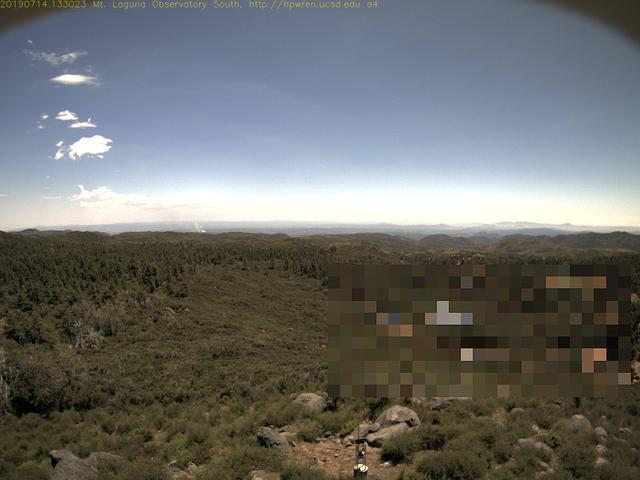smoke: (188, 212, 212, 235)
